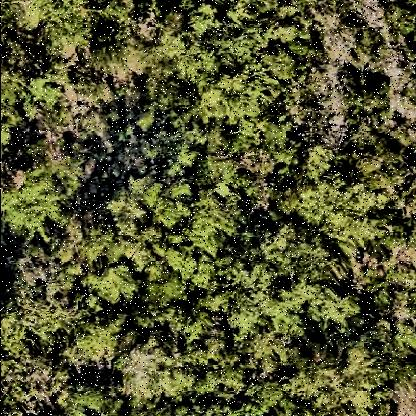tree-top: (76, 177, 224, 322), (171, 1, 303, 140), (221, 220, 347, 342), (288, 147, 396, 256), (286, 349, 390, 413), (1, 165, 71, 239), (8, 249, 74, 323), (21, 3, 105, 56), (65, 311, 125, 375), (1, 68, 37, 166), (56, 377, 122, 416), (384, 1, 416, 50)
